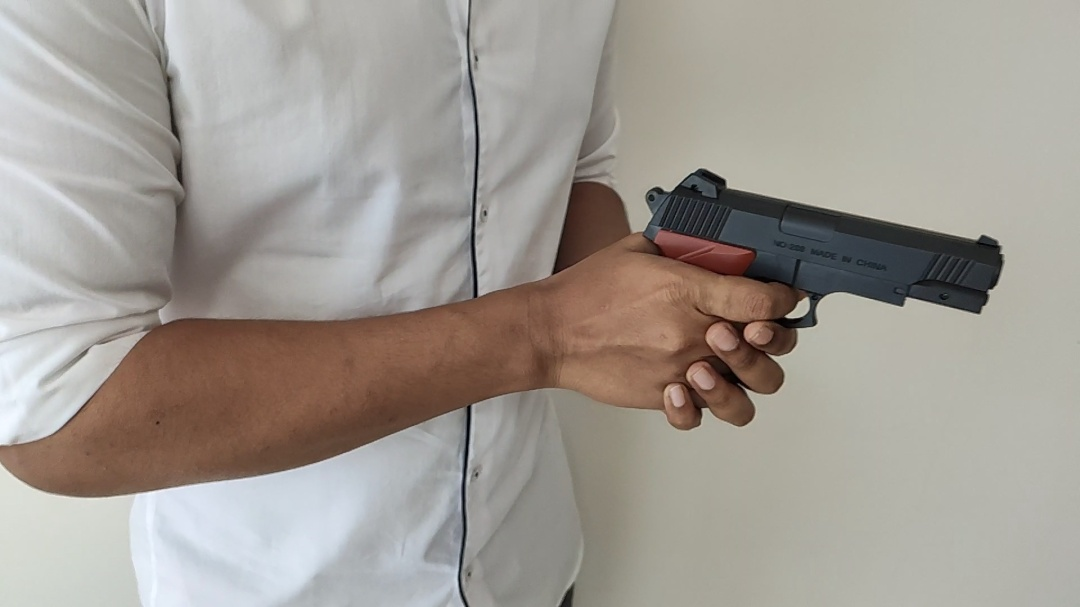gun: (644, 169, 1005, 328)
